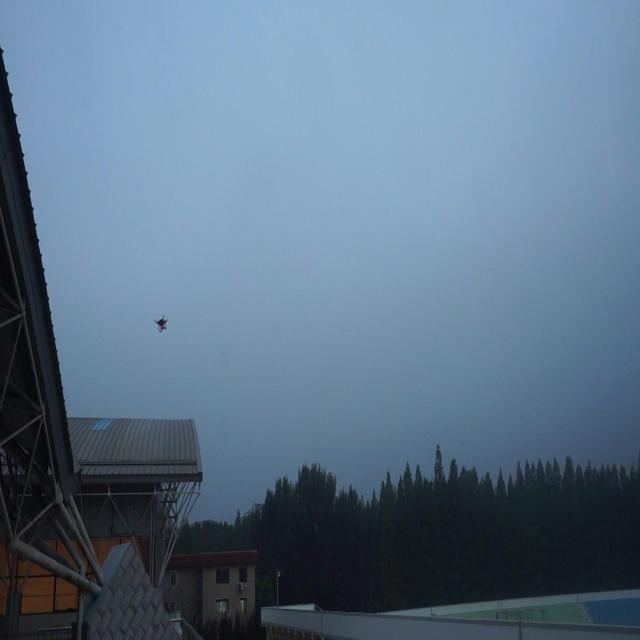drone: (154, 310, 171, 334)
